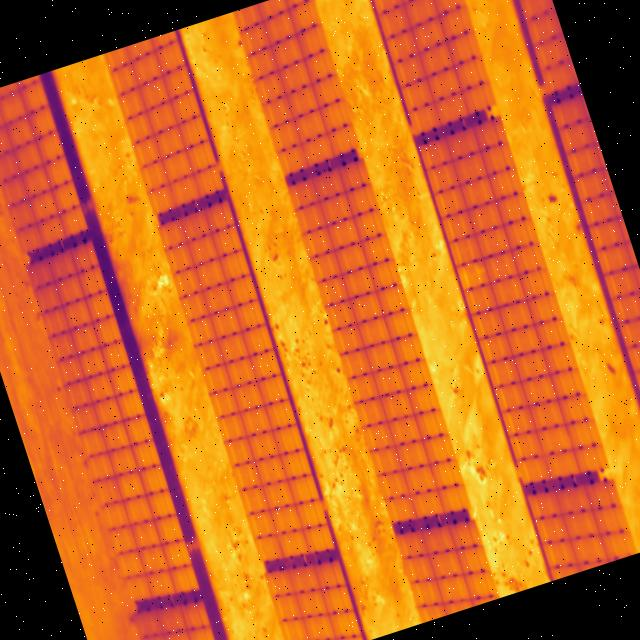Hotspot: (455, 256, 494, 295)
